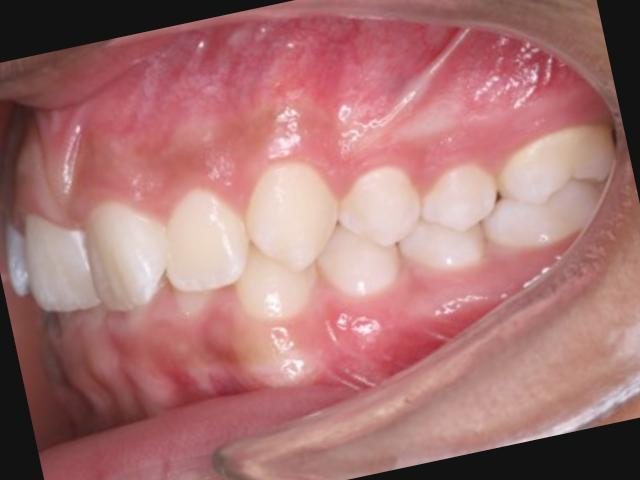canine class II 1/4: (209, 132, 411, 342)
molar class I: (462, 117, 632, 262)
